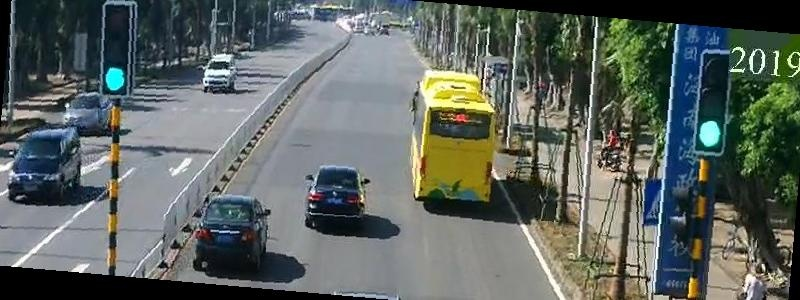green: (97, 64, 129, 91), (699, 121, 719, 150)
